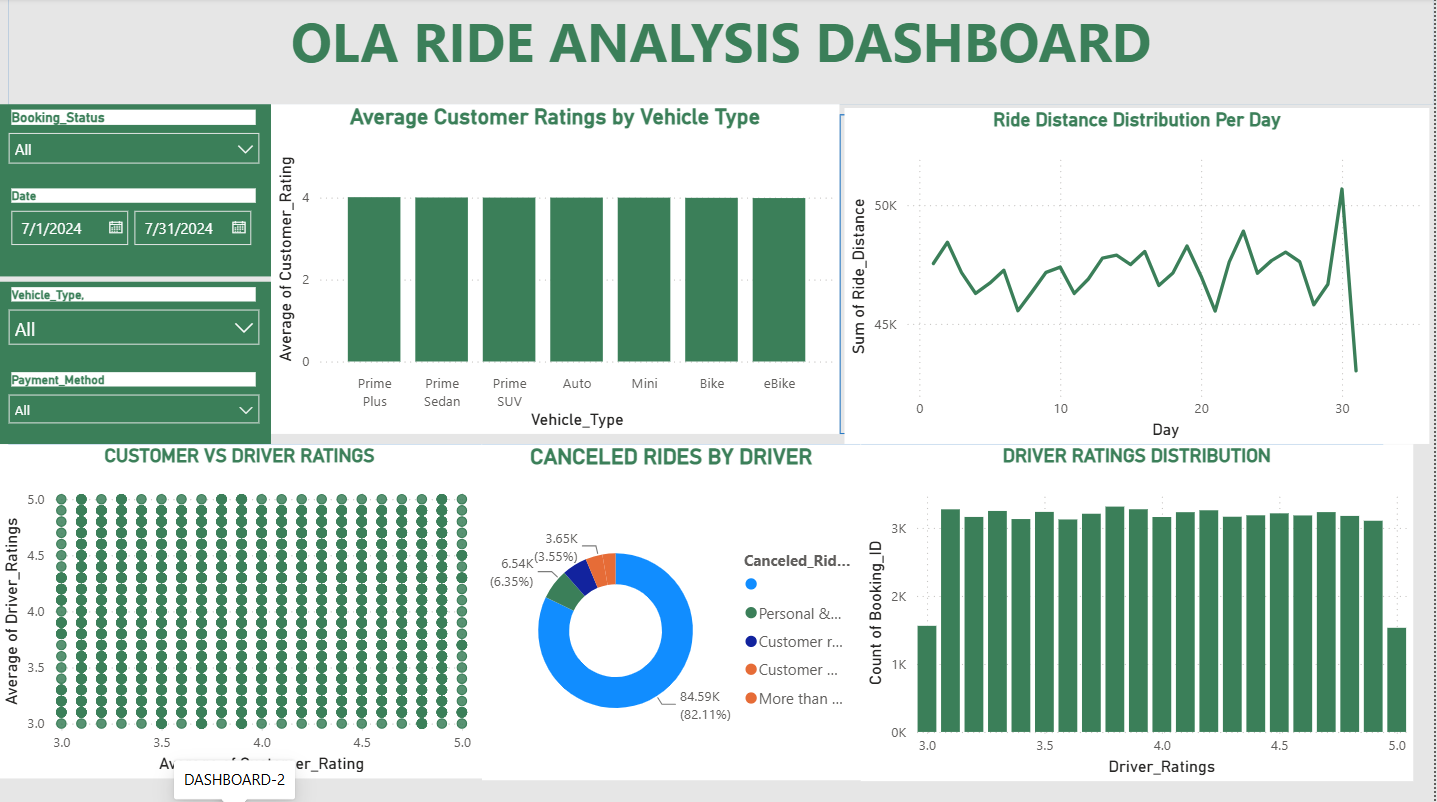

The dashboard page shown, as its layout file describes it:
{"tool":"powerbi","page":{"name":"DASHBOARD-2","canvas":[1280,720],"ordinal":1},"visuals":[{"type":"shape","box":[10.5,0,1269.8,95.3],"z":0},{"type":"textbox","box":[10.5,0,1269.8,95.3],"z":1000},{"type":"shape","box":[431.9,397.4,337.3,296.1],"z":2000},{"type":"shape","box":[10,397.4,421.9,296.1],"z":3000},{"type":"shape","box":[769.2,397.4,465.3,296.1],"z":4000},{"type":"shape","box":[750.3,103.5,490.9,285],"z":5000},{"type":"clusteredColumnChart","title":"Average Customer Ratings by Vehicle Type","fields":{"Category":["ola_cleaned_data.Vehicle_Type"],"Y":["Avg(ola_cleaned_data.Customer_Rating)"]},"box":[243.8,94.6,506.5,293.9],"z":6000},{"type":"donutChart","title":"CANCELED RIDES BY DRIVER","fields":{"Category":["ola_cleaned_data.Canceled_Rides_by_Driver"],"Y":["Count(ola_cleaned_data.Booking_ID)"]},"box":[431.9,397.4,337.3,299.4],"z":7000},{"type":"lineChart","title":"Ride Distance Distribution Per Day","fields":{"Y":["Sum(ola_cleaned_data.Ride_Distance)"],"Category":["ola_cleaned_data.Date.Variation.Date Hierarchy.Day"]},"box":[754.7,98,521,299.4],"z":8000},{"type":"clusteredColumnChart","title":"DRIVER RATINGS DISTRIBUTION","fields":{"Category":["ola_cleaned_data.Driver_Ratings"],"Y":["CountNonNull(ola_cleaned_data.Booking_ID)"]},"box":[769.2,397.4,491.9,300],"z":9000},{"type":"scatterChart","title":"CUSTOMER VS DRIVER RATINGS","fields":{"Category":["ola_cleaned_data.Booking_ID"],"X":["Avg(ola_cleaned_data.Customer_Rating)"],"Y":["Avg(ola_cleaned_data.Driver_Ratings)"]},"box":[0,397.4,431.9,297.2],"z":10000},{"type":"slicer","fields":{"Values":["ola_cleaned_data.Date"]},"box":[0,164.8,243.8,83.5],"z":11000},{"type":"slicer","fields":{"Values":["ola_cleaned_data.Vehicle_Type","ola_cleaned_data.Date"]},"box":[0,252.7,243.8,75.7],"z":12000},{"type":"slicer","fields":{"Values":["ola_cleaned_data.Booking_Status"]},"box":[0,94.6,243.8,70.1],"z":13000},{"type":"slicer","fields":{"Values":["ola_cleaned_data.Payment_Method"]},"box":[0,328.4,243.8,69],"z":14000}]}

Visuals, with their boxes in screenshot pixels (x1, y1, x2, y2), scaled from the page's 1280x720 canvas onto the 1437x802 screenshot:
shape: <box>12,0,1436,106</box>
textbox: <box>12,0,1436,106</box>
shape: <box>485,443,864,772</box>
shape: <box>11,443,485,772</box>
shape: <box>864,443,1386,772</box>
shape: <box>842,115,1393,433</box>
"Average Customer Ratings by Vehicle Type" clusteredColumnChart: <box>274,105,842,433</box>
"CANCELED RIDES BY DRIVER" donutChart: <box>485,443,864,776</box>
"Ride Distance Distribution Per Day" lineChart: <box>847,109,1432,443</box>
"DRIVER RATINGS DISTRIBUTION" clusteredColumnChart: <box>864,443,1416,777</box>
"CUSTOMER VS DRIVER RATINGS" scatterChart: <box>0,443,485,774</box>
slicer - ola_cleaned_data.Date: <box>0,184,274,277</box>
slicer - ola_cleaned_data.Vehicle_Type x ola_cleaned_data.Date: <box>0,281,274,366</box>
slicer - ola_cleaned_data.Booking_Status: <box>0,105,274,183</box>
slicer - ola_cleaned_data.Payment_Method: <box>0,366,274,443</box>
